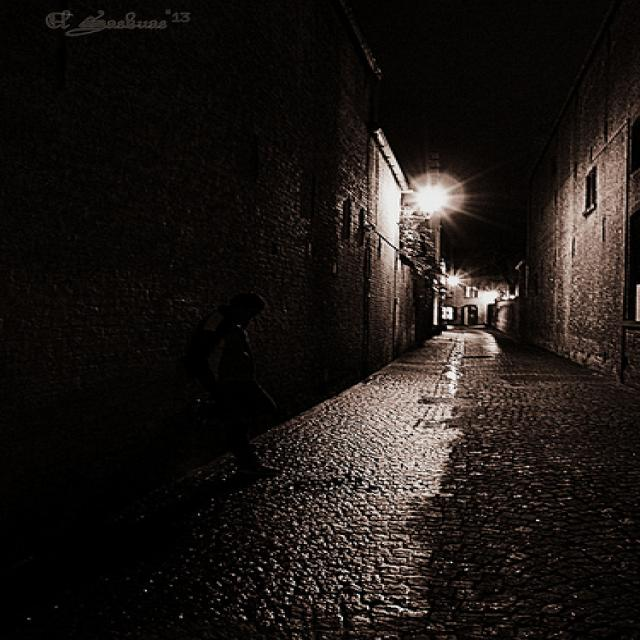People: (173, 283, 292, 481)
